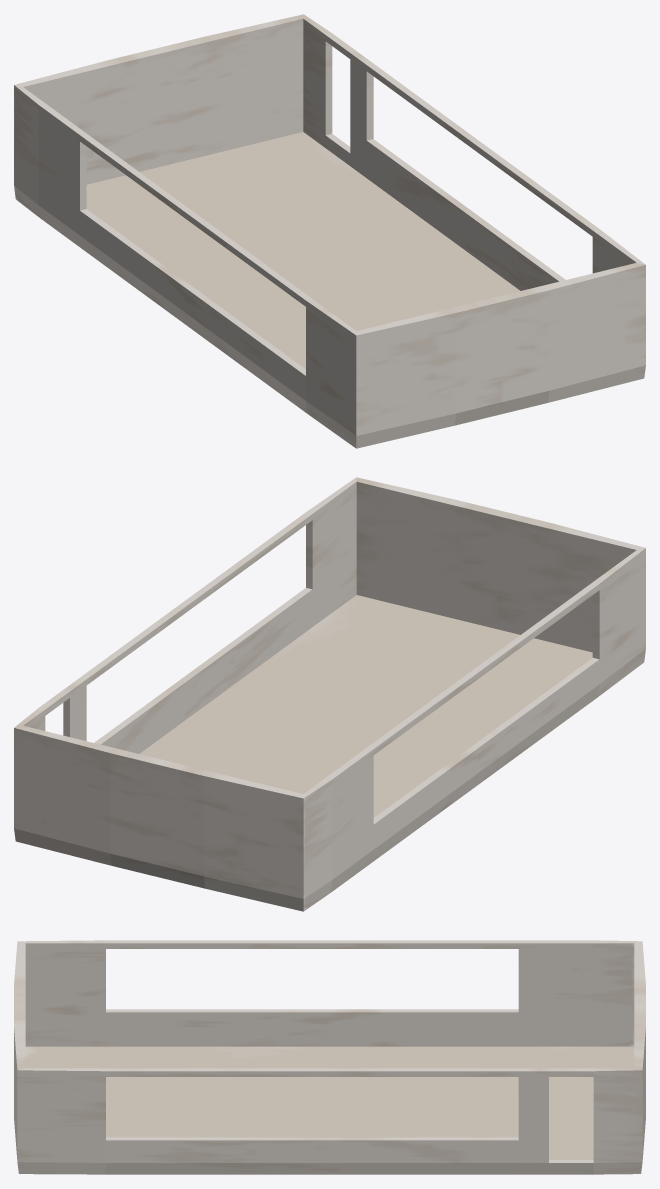
The model's file is lantai.fbx.
The picture shows the model from 3 angles, top to bottom: view 1: azimuth 30°, elevation 25°; view 2: azimuth 150°, elevation 25°; view 3: azimuth 270°, elevation 25°; orthographic projection. The views are drawn at different scales.
Parts seen in each view (by area): view 1: lantai; view 2: lantai; view 3: lantai.
Part boxes in pixels (bbox=[...]): lantai: bbox=[14, 14, 645, 448]; lantai: bbox=[14, 477, 645, 911]; lantai: bbox=[14, 940, 645, 1174].
Size of the model in its own units: 1578 by 589 by 3222.
